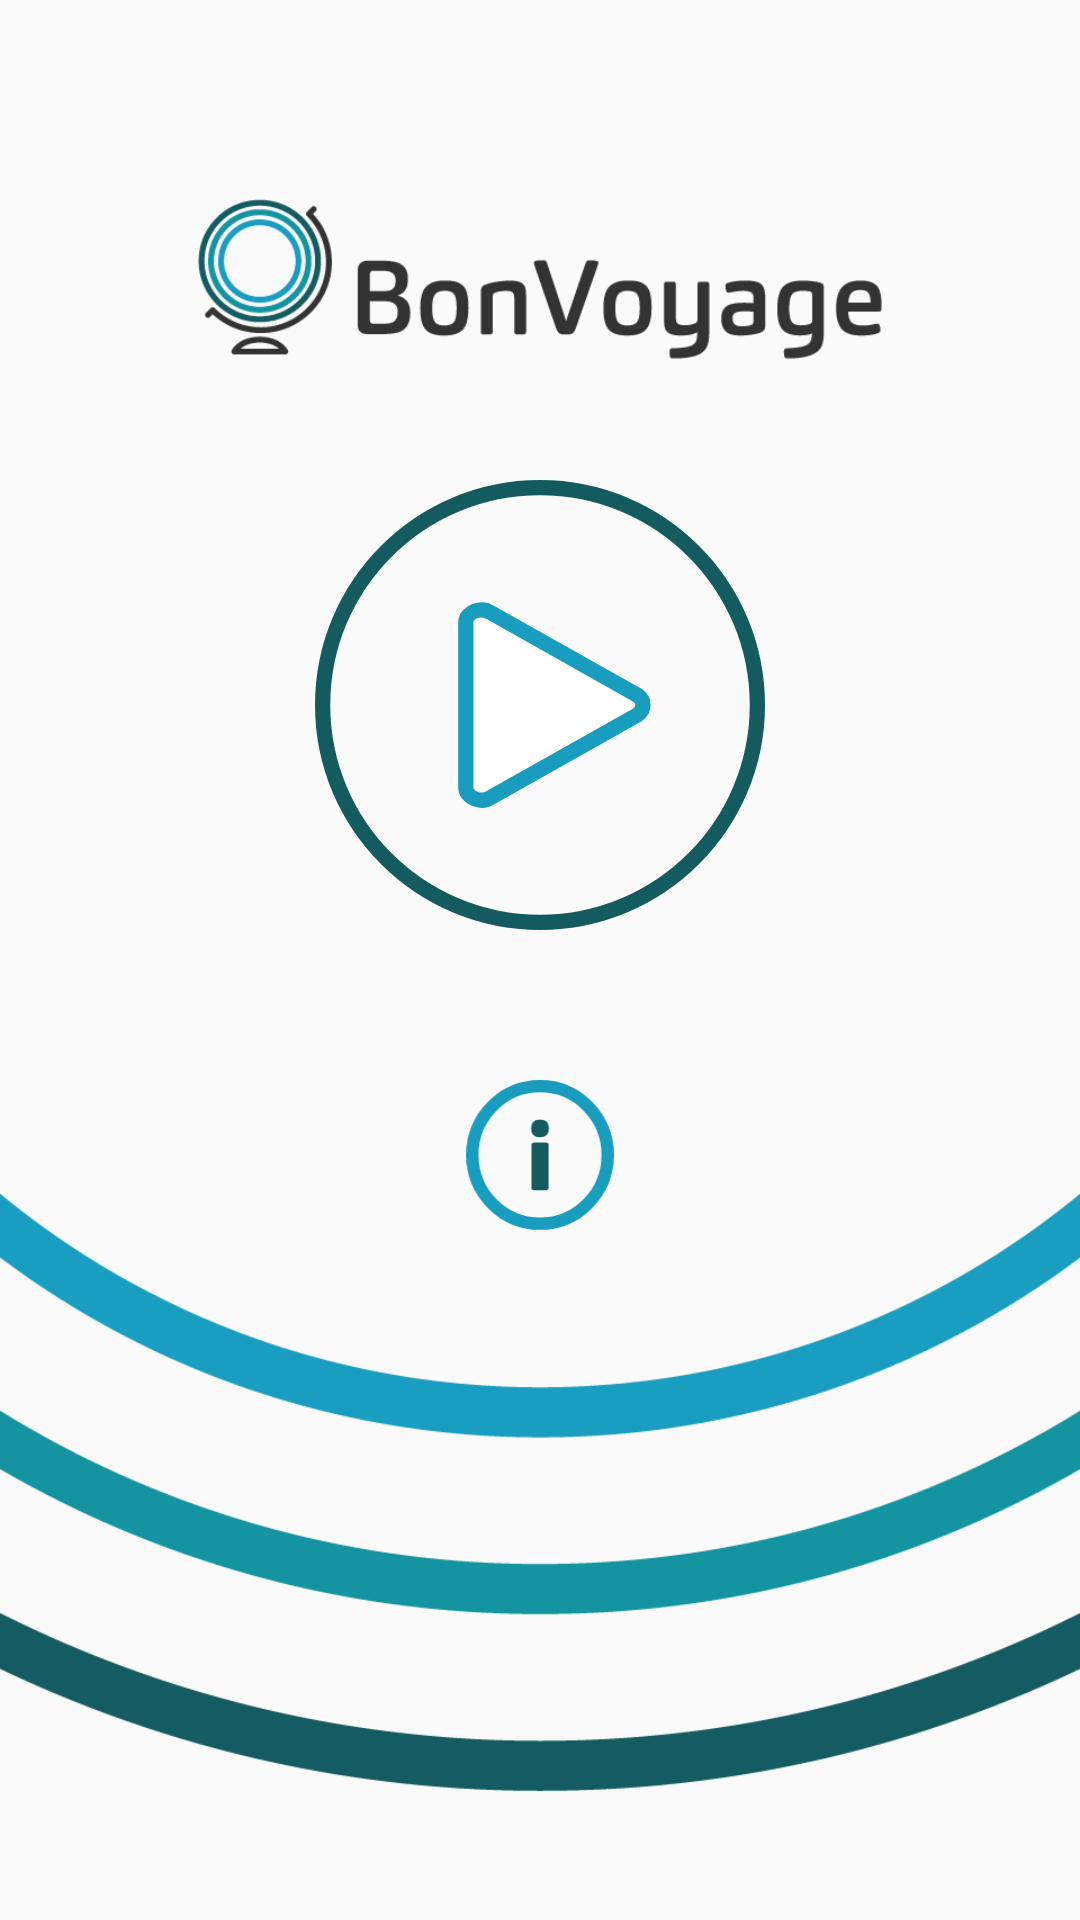

Icons on this 1080 × 1920 Android screen, each with the point to tap as (x=x, y=y):
information: (x=540, y=1155)
